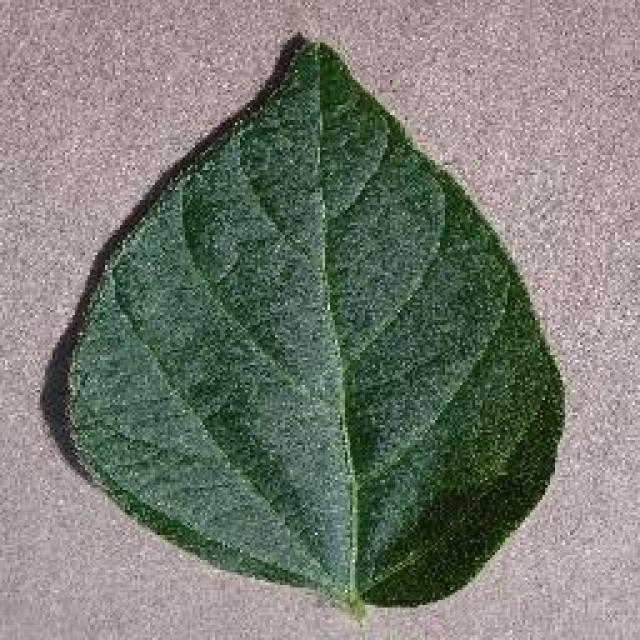Soy_healthy: (84, 59, 551, 600)
